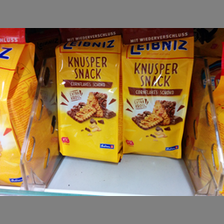chocolate: (53, 36, 122, 161), (120, 36, 185, 158)
